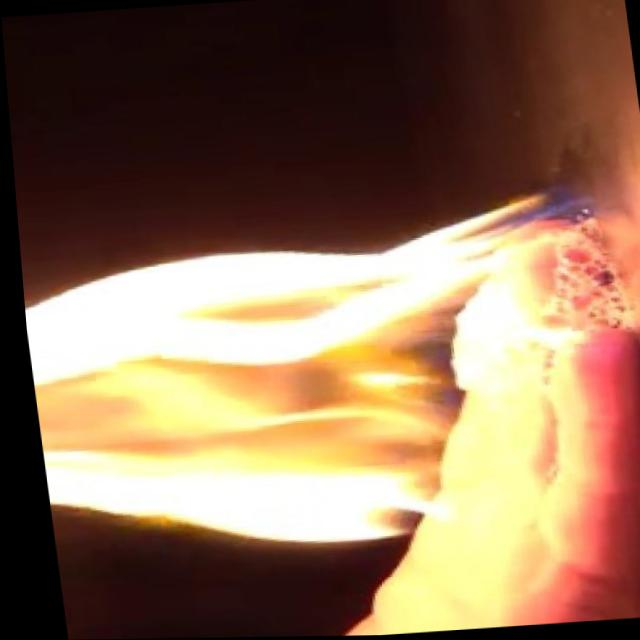Fire: (13, 192, 623, 575)
